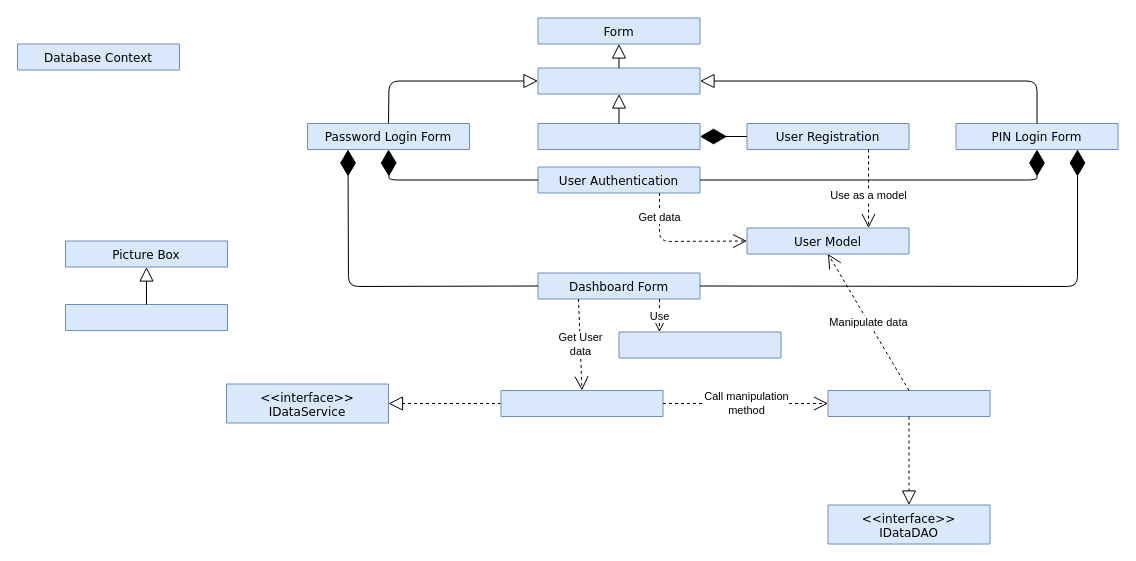
The diagram is 1136 pixels wide and 561 high, and some of its shapes have lost their labels. Each missing label, with the centre of its shape:
"Login Form" goes at (x=618, y=80).
"Register Form" goes at (x=618, y=136).
"Rounded Picture Box" goes at (x=146, y=317).
"User Service" goes at (x=581, y=403).
"UserAvatar" goes at (x=699, y=344).
"UserDAO" goes at (x=908, y=403).
